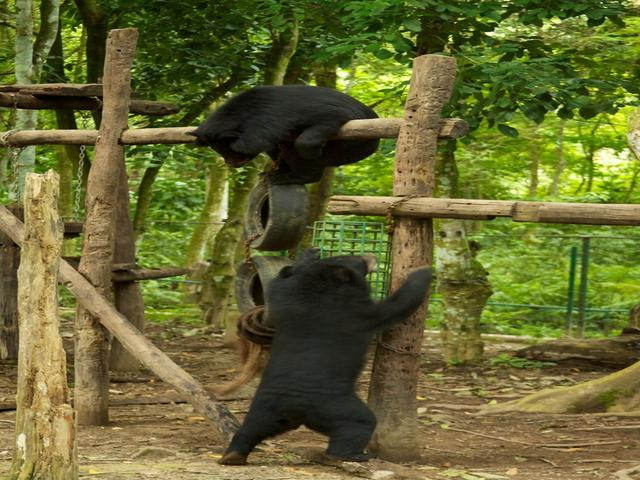Bear: (192, 247, 466, 457), (193, 80, 387, 170)
